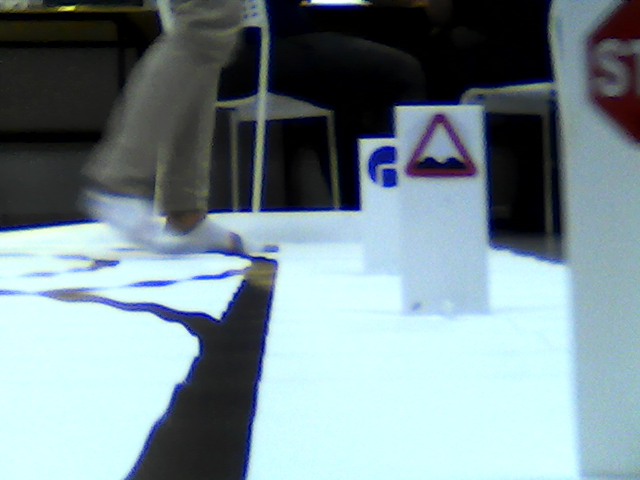Nerov: (405, 113, 480, 179)
Right: (366, 146, 399, 188)
